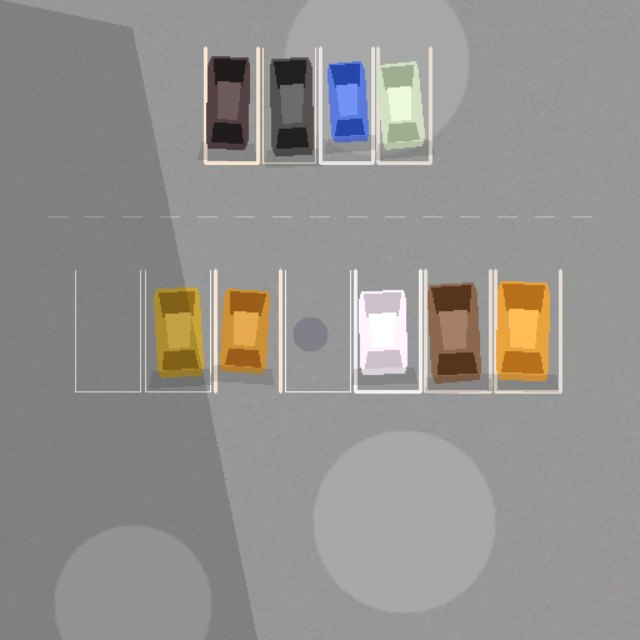space-empty: (75, 270, 140, 391), (285, 270, 350, 391)
space-occupied: (145, 270, 210, 391), (215, 270, 280, 391), (355, 270, 420, 391), (425, 270, 490, 391), (495, 270, 560, 391), (320, 47, 373, 162), (377, 47, 430, 162), (205, 47, 257, 162), (263, 47, 315, 162)
